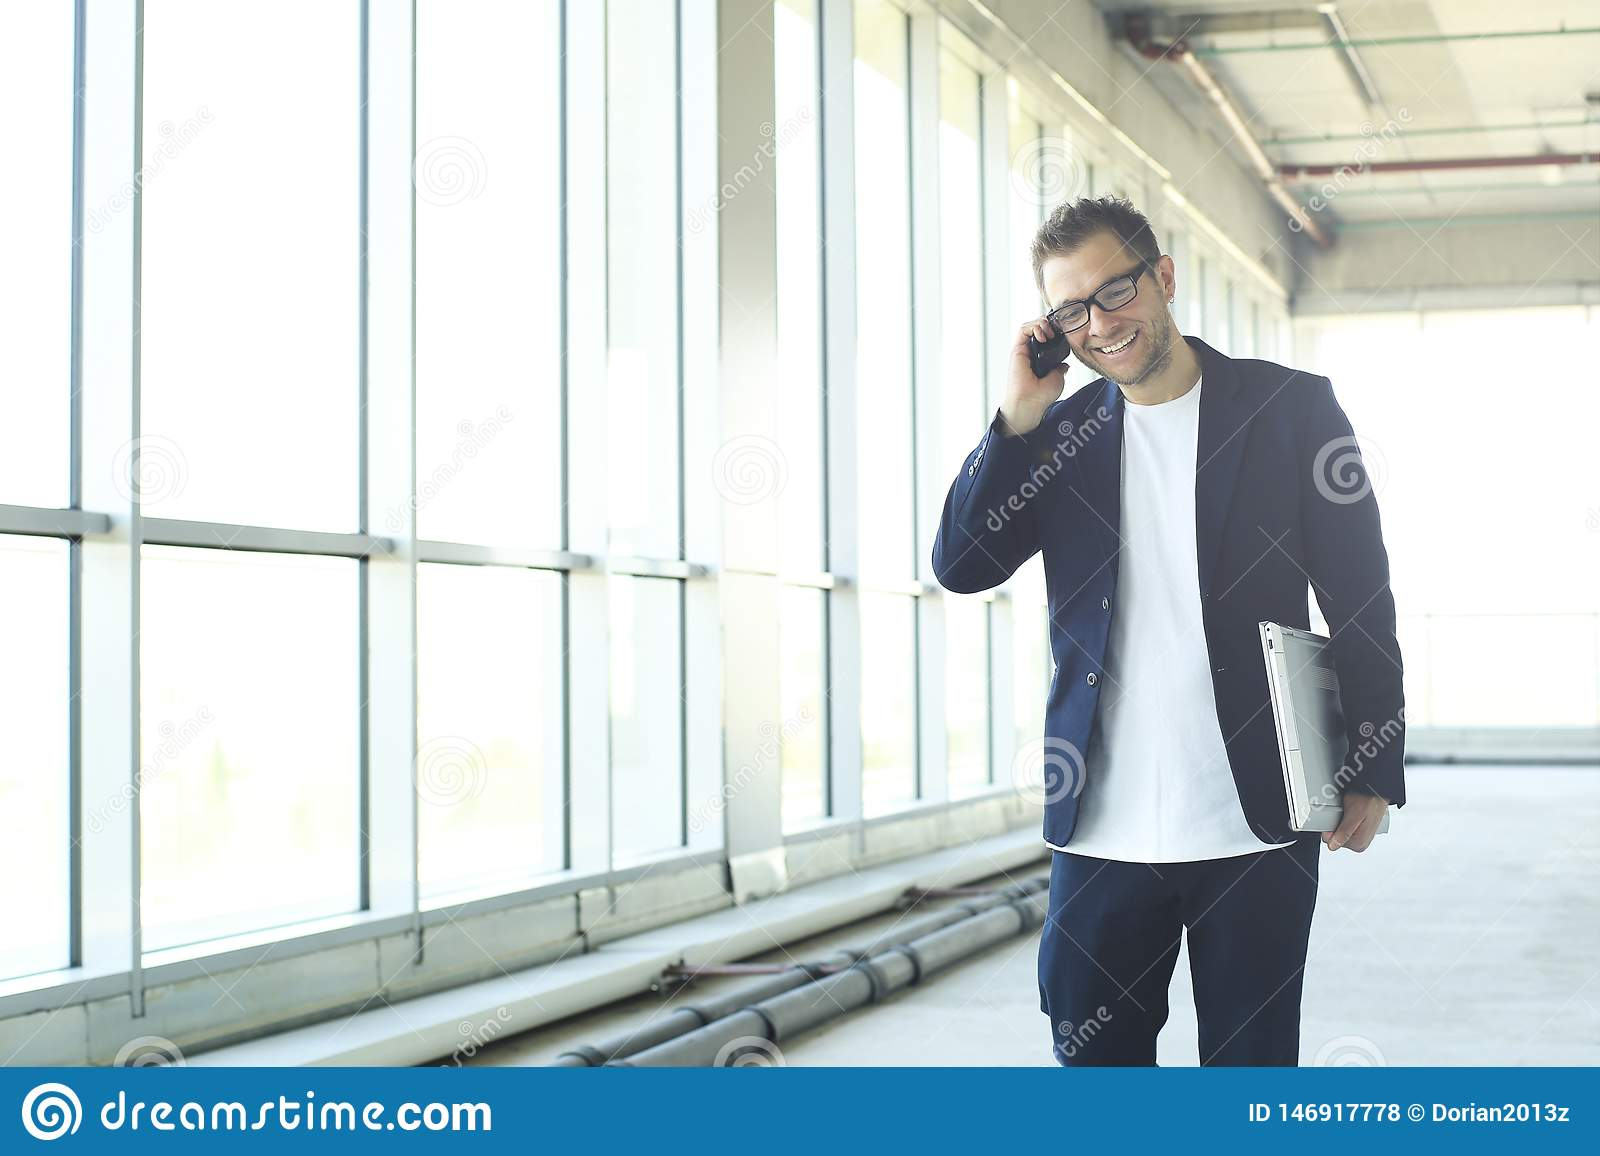phone: (1029, 319, 1072, 380)
talk: (1002, 258, 1165, 421)
